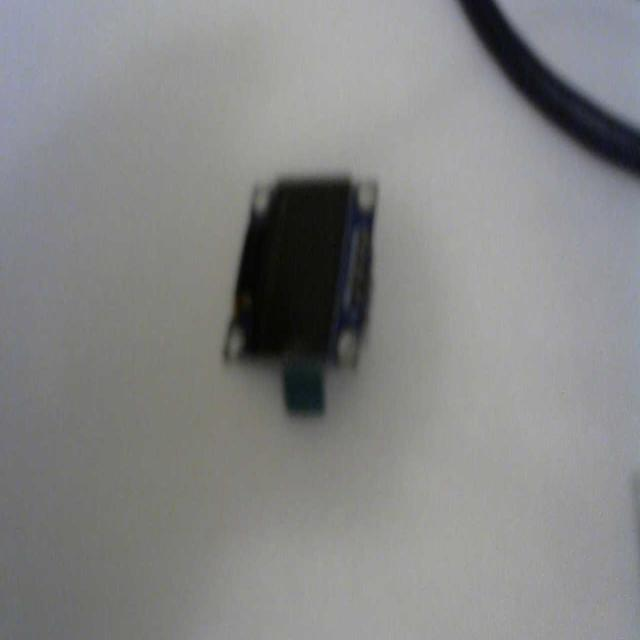oled: (228, 172, 382, 420)
